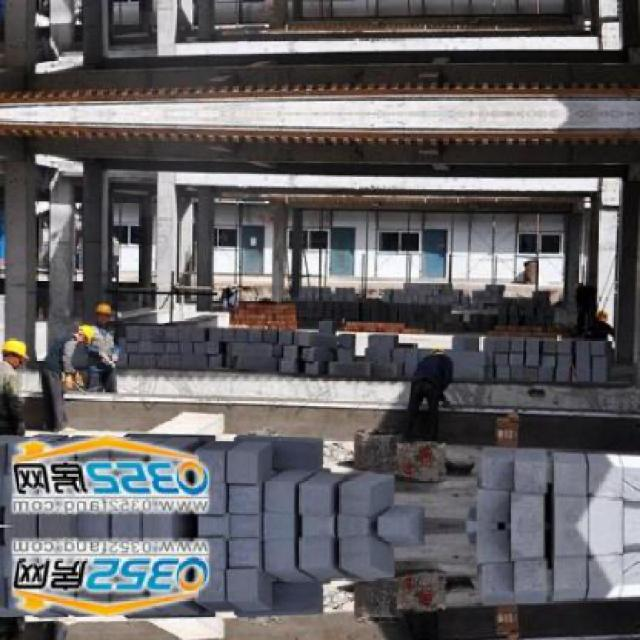con casco: (60, 295, 120, 355), (0, 330, 34, 392)
